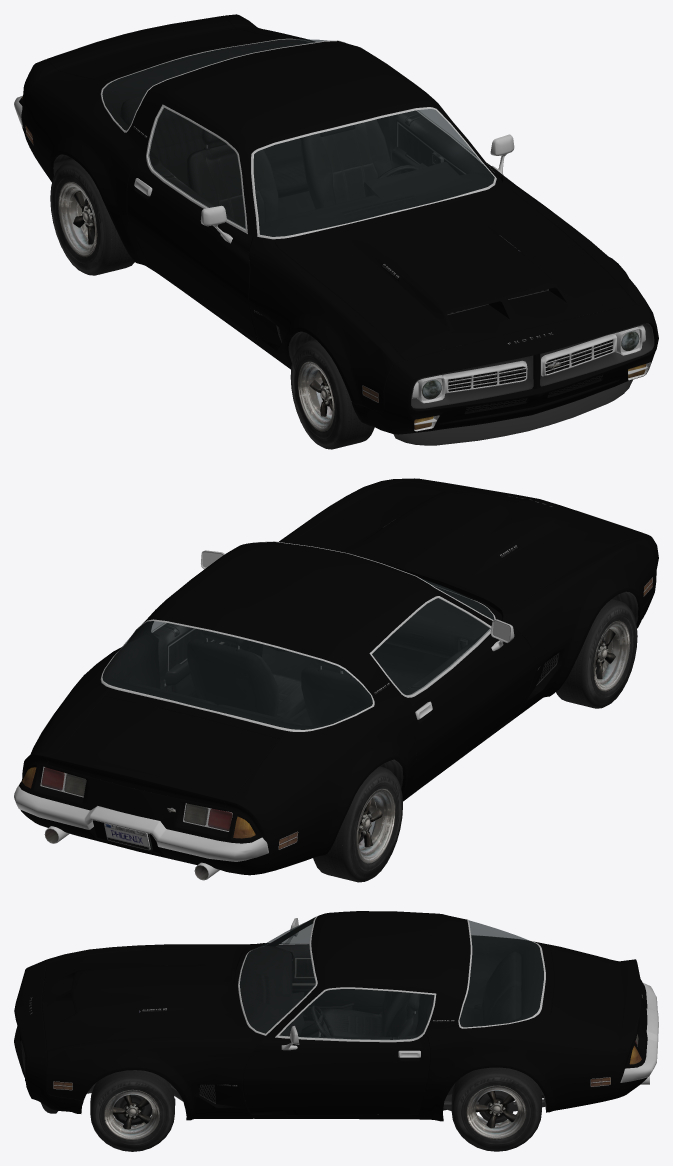
File: mcar_min.glb
The picture shows the model from 3 angles, top to bottom: view 1: azimuth 30°, elevation 25°; view 2: azimuth 150°, elevation 25°; view 3: azimuth 270°, elevation 25°; orthographic projection. The views are drawn at different scales.
Visible parts, largest first — view 1: Body_body_0, Doorglass_FL_UCB_GLASS_CLEAN_0, Dashboard_GEN4DR_INTERIOR_0, Grill_UCB_BOTTOM_0, Wheel_FL_RIMMUSCLE_01_0, Taillights_glass_reverse_Riverside88_lights_0; view 2: Body_body_0, Doorglass_FL_UCB_GLASS_CLEAN_0, Dashboard_GEN4DR_INTERIOR_0, Wheel_FL_RIMMUSCLE_01_0, Grill_UCB_BOTTOM_0, Taillights_glass_reverse_Riverside88_lights_0, Numberplate_rear_Numberplates_0; view 3: Body_body_0, Doorglass_FL_UCB_GLASS_CLEAN_0, Dashboard_GEN4DR_INTERIOR_0, Wheel_FL_RIMMUSCLE_01_0, Grill_UCB_BOTTOM_0, Taillights_glass_reverse_Riverside88_lights_0.
Part boxes in pixels (bbox=[...]): Body_body_0: bbox=[19, 14, 658, 434]; Doorglass_FL_UCB_GLASS_CLEAN_0: bbox=[102, 39, 494, 236]; Dashboard_GEN4DR_INTERIOR_0: bbox=[102, 39, 494, 236]; Grill_UCB_BOTTOM_0: bbox=[14, 38, 654, 445]; Wheel_FL_RIMMUSCLE_01_0: bbox=[50, 159, 374, 449]; Taillights_glass_reverse_Riverside88_lights_0: bbox=[22, 97, 646, 429]; Body_body_0: bbox=[19, 478, 658, 875]; Doorglass_FL_UCB_GLASS_CLEAN_0: bbox=[102, 578, 494, 729]; Dashboard_GEN4DR_INTERIOR_0: bbox=[102, 586, 494, 776]; Wheel_FL_RIMMUSCLE_01_0: bbox=[313, 599, 637, 882]; Grill_UCB_BOTTOM_0: bbox=[14, 541, 652, 880]; Taillights_glass_reverse_Riverside88_lights_0: bbox=[22, 578, 652, 849]; Numberplate_rear_Numberplates_0: bbox=[104, 823, 150, 850]; Body_body_0: bbox=[14, 911, 647, 1121]; Doorglass_FL_UCB_GLASS_CLEAN_0: bbox=[240, 918, 543, 1039]; Dashboard_GEN4DR_INTERIOR_0: bbox=[240, 917, 543, 1039]; Wheel_FL_RIMMUSCLE_01_0: bbox=[90, 1067, 541, 1151]; Grill_UCB_BOTTOM_0: bbox=[21, 916, 658, 1125]; Taillights_glass_reverse_Riverside88_lights_0: bbox=[53, 1034, 641, 1089].
Size of the model in its own units: 2.09 by 1.33 by 4.89.
8 materials, 7 textured.
